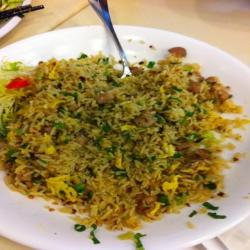rice: (17, 61, 223, 213)
